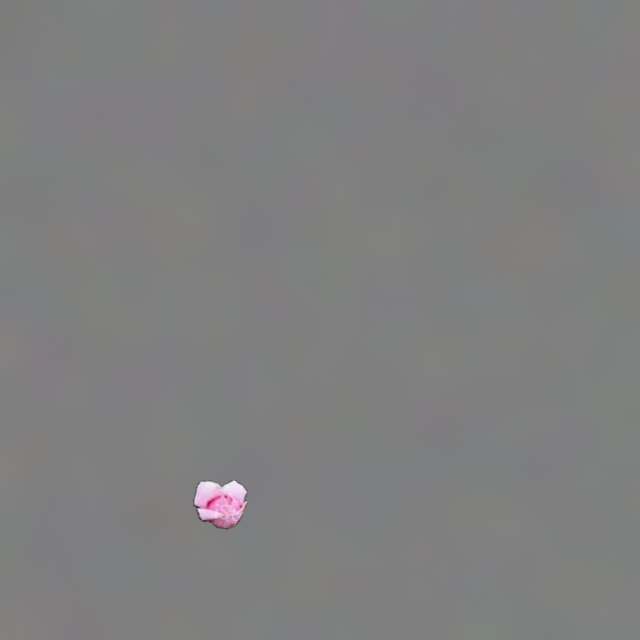rose: (193, 480, 247, 528)
